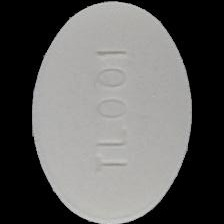33261-335: (0, 0, 224, 224)
